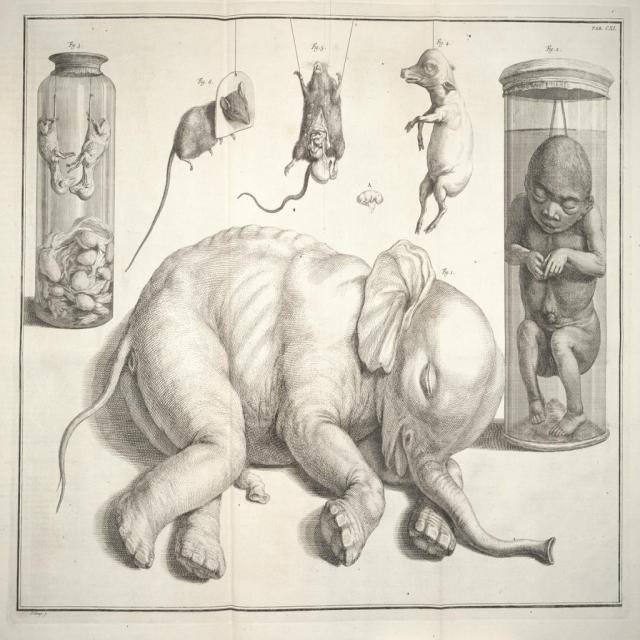elephant: (63, 224, 546, 584)
